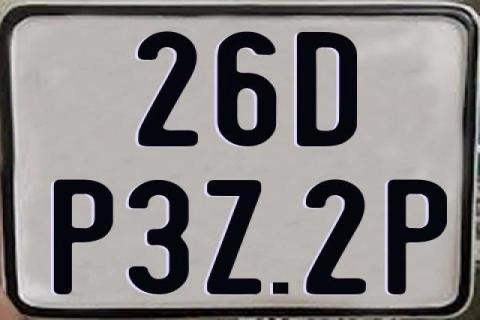0: (129, 180, 194, 299), (305, 178, 369, 296), (216, 29, 278, 144), (138, 29, 198, 147)
D: (295, 30, 357, 148)
P: (385, 177, 450, 297), (54, 178, 117, 298)
Z: (205, 178, 263, 296)
